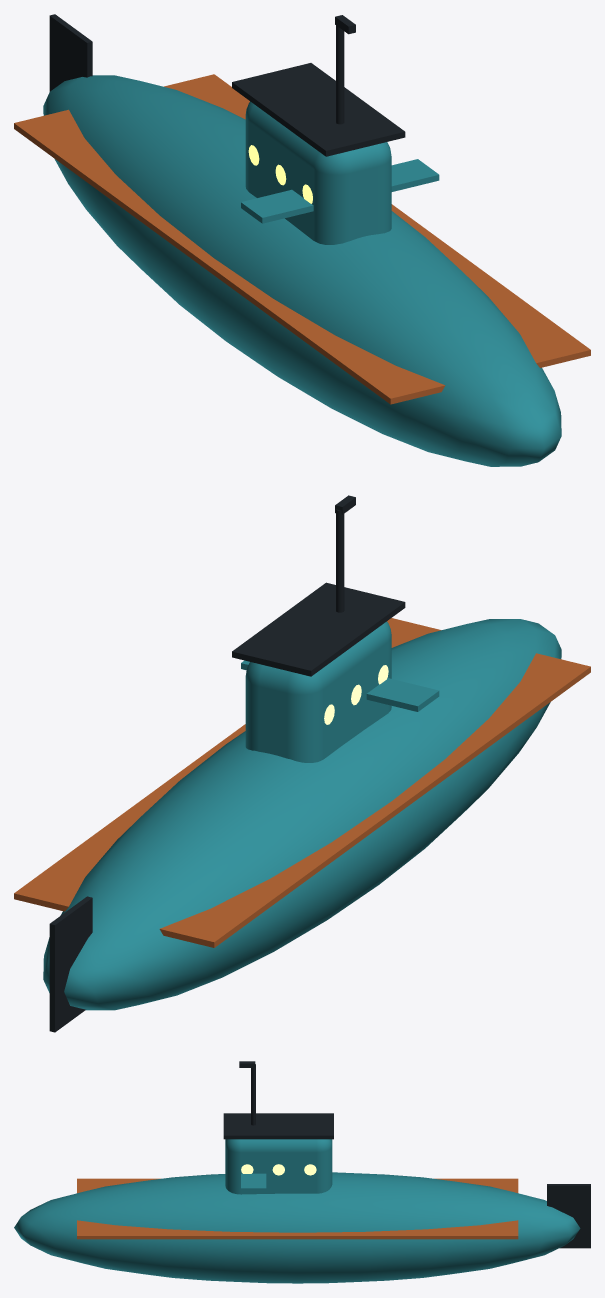
The model's file is submarine.glb.
3 views of the same model, one above another, from view 1: azimuth 30°, elevation 25°; view 2: azimuth 150°, elevation 25°; view 3: azimuth 270°, elevation 25° (orthographic). The views are drawn at different scales.
Parts seen in each view (by area): view 1: sub hull, sub rust, sub dark; view 2: sub hull, sub rust, sub dark; view 3: sub hull, sub rust, sub dark, sub portholes.
Part boxes in pixels (x1,y1,x2,y2): sub hull: [43, 75, 561, 466]; sub rust: [14, 74, 590, 404]; sub dark: [49, 14, 405, 156]; sub hull: [43, 619, 561, 1010]; sub rust: [14, 618, 590, 947]; sub dark: [49, 495, 405, 1032]; sub hull: [14, 1139, 580, 1283]; sub rust: [77, 1178, 518, 1239]; sub dark: [223, 1061, 590, 1248]; sub portholes: [241, 1164, 316, 1175].
Bounding box in the file's own units: 4.3 × 7.48 × 18.3.
